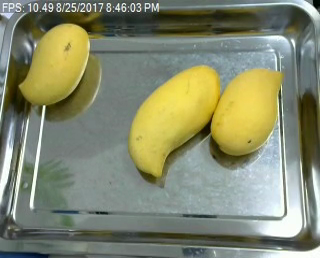Mango: (129, 60, 219, 183), (17, 22, 91, 107), (210, 67, 280, 154)
